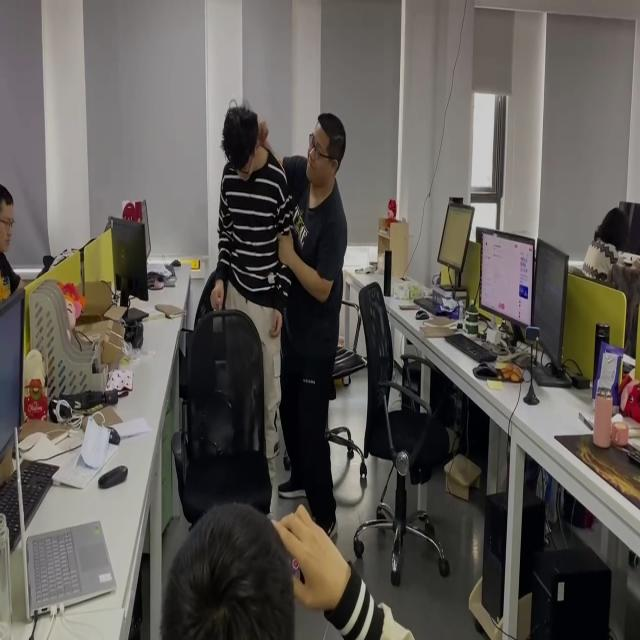non-fight: (210, 99, 294, 516), (268, 115, 346, 541), (1, 186, 24, 301)
